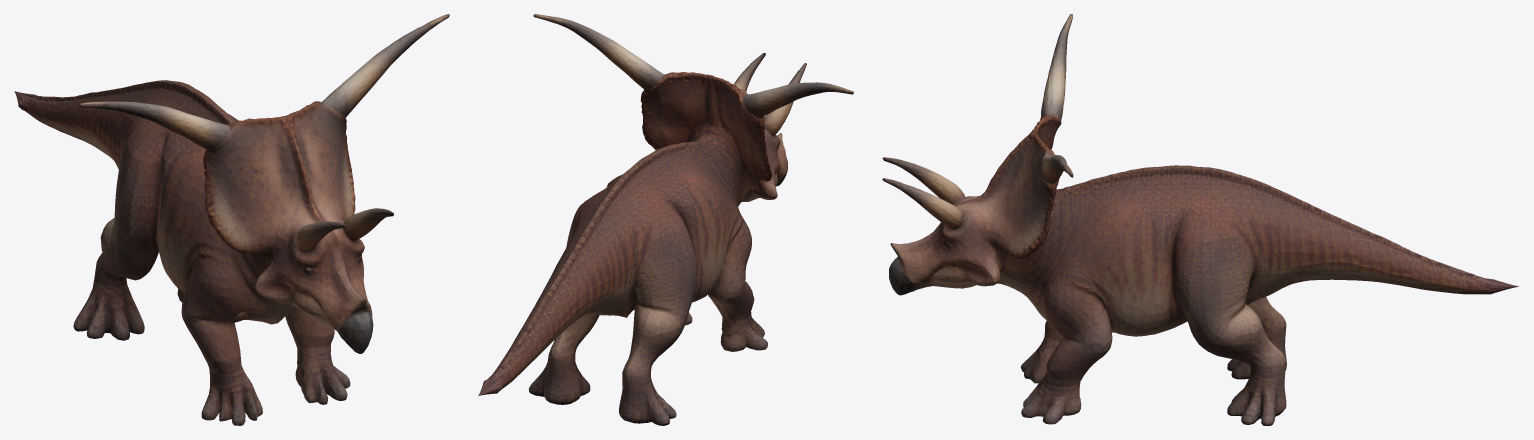
3 views of the same model, side by side, from view 1: azimuth 30°, elevation 25°; view 2: azimuth 150°, elevation 25°; view 3: azimuth 270°, elevation 25° (orthographic). The views are drawn at different scales.
Parts seen in each view (by area): view 1: world; view 2: world; view 3: world.
Boxes of the visible parts, x1=… form: world: x1=14, y1=14, x2=449, y2=425; world: x1=478, y1=14, x2=853, y2=425; world: x1=882, y1=14, x2=1519, y2=425.
Size of the model in its own units: 0.6007 by 0.5203 by 1.
Materials: 1 (1 with a texture image).
